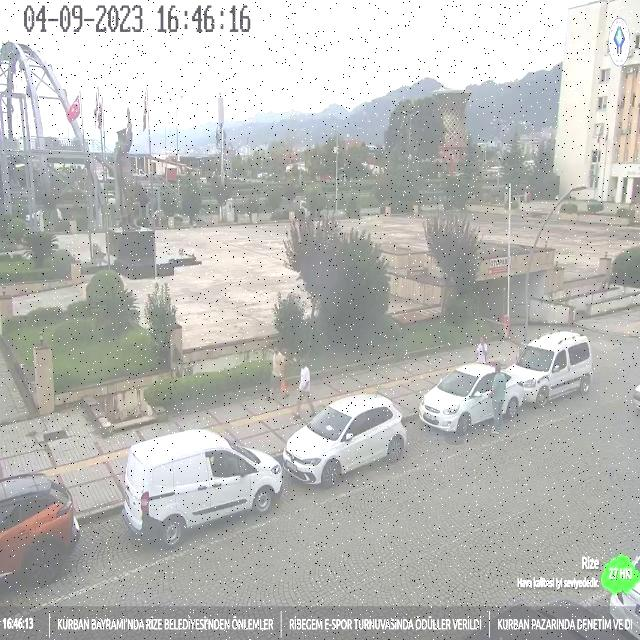Car: (283, 390, 407, 485), (0, 471, 84, 576), (419, 362, 502, 432)
Van: (126, 426, 280, 544), (508, 330, 592, 406)
